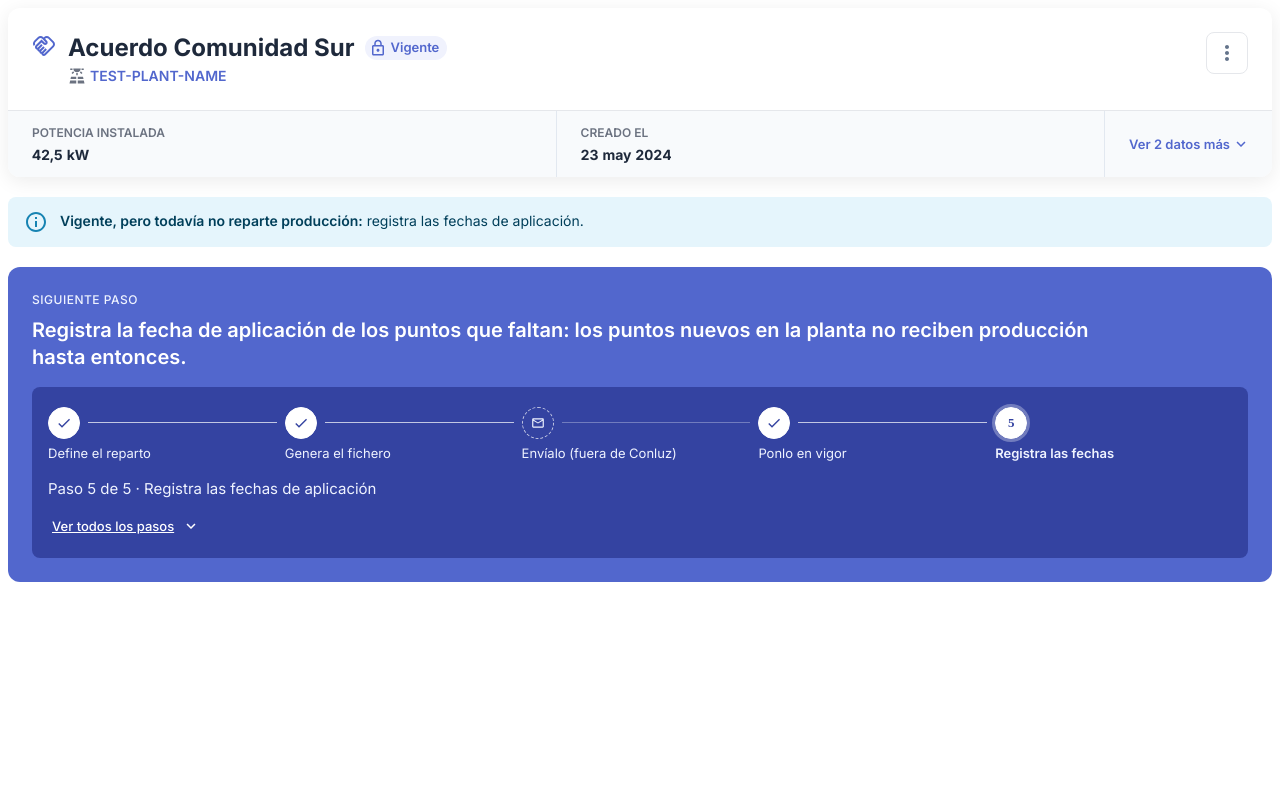
Test: SharingAgreementDetailHeader › the kebab › offers editing, but not deleting, for a published agreement
Click the button named "Más opciones del acuerdo" at {"x": 1227, "y": 53}, box 1206,32 -> 1248,74
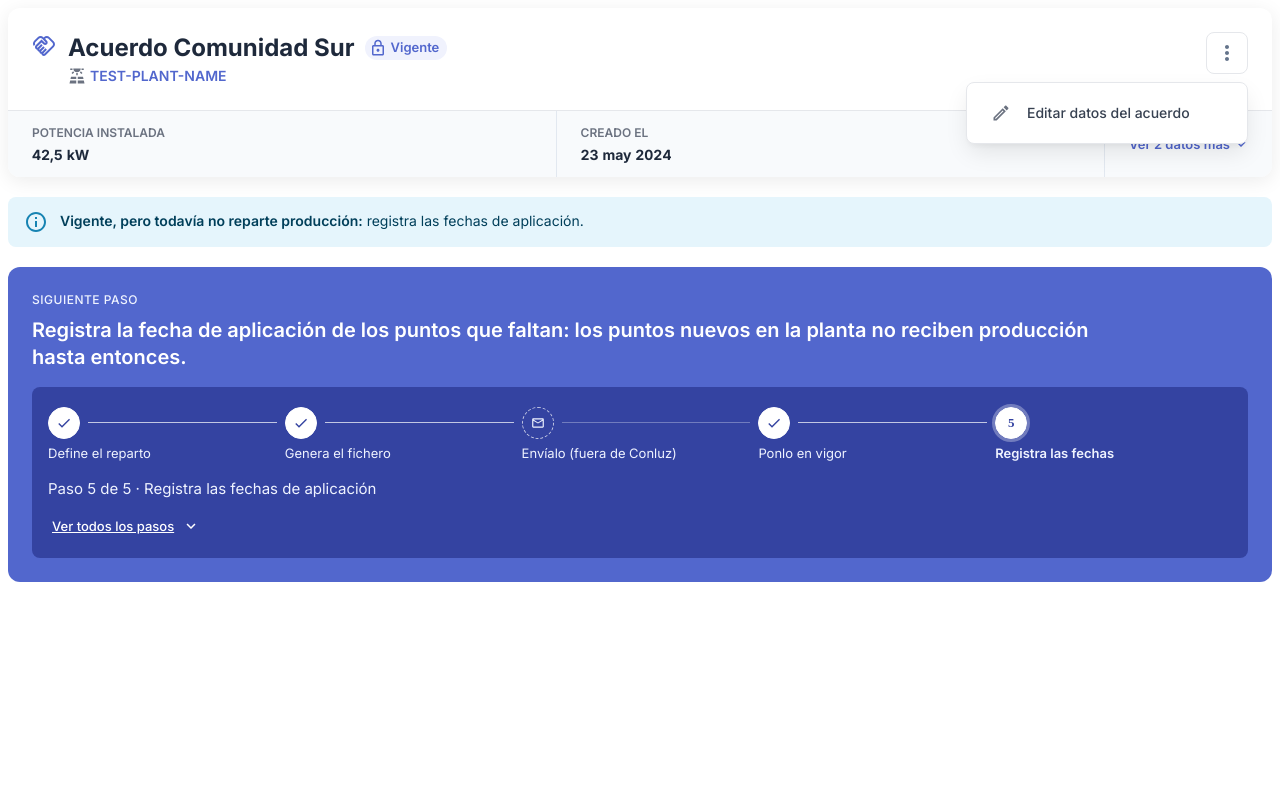
Check: the menu does not show "Eliminar", box 991,103 -> 1190,123
Check: the menu is shown, box 991,103 -> 1190,123
Check: the menu reads "Editar datos del acuerdo", box 1027,104 -> 1190,121
